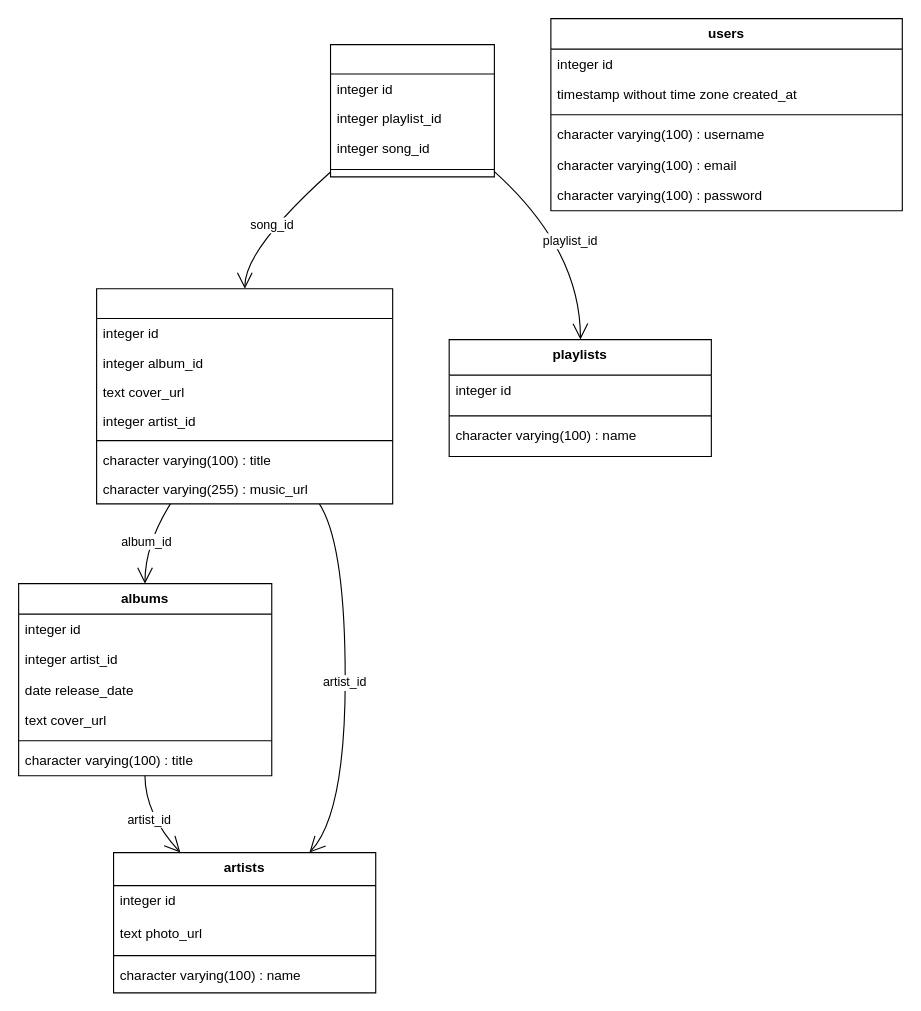
This 921x1011 diagram has some shape labels left out. Here are the shapes that lost their labels. From the top down, the box of each, then its label:
(329, 44, 494, 177): playlist_songs
(95, 288, 393, 504): musics
